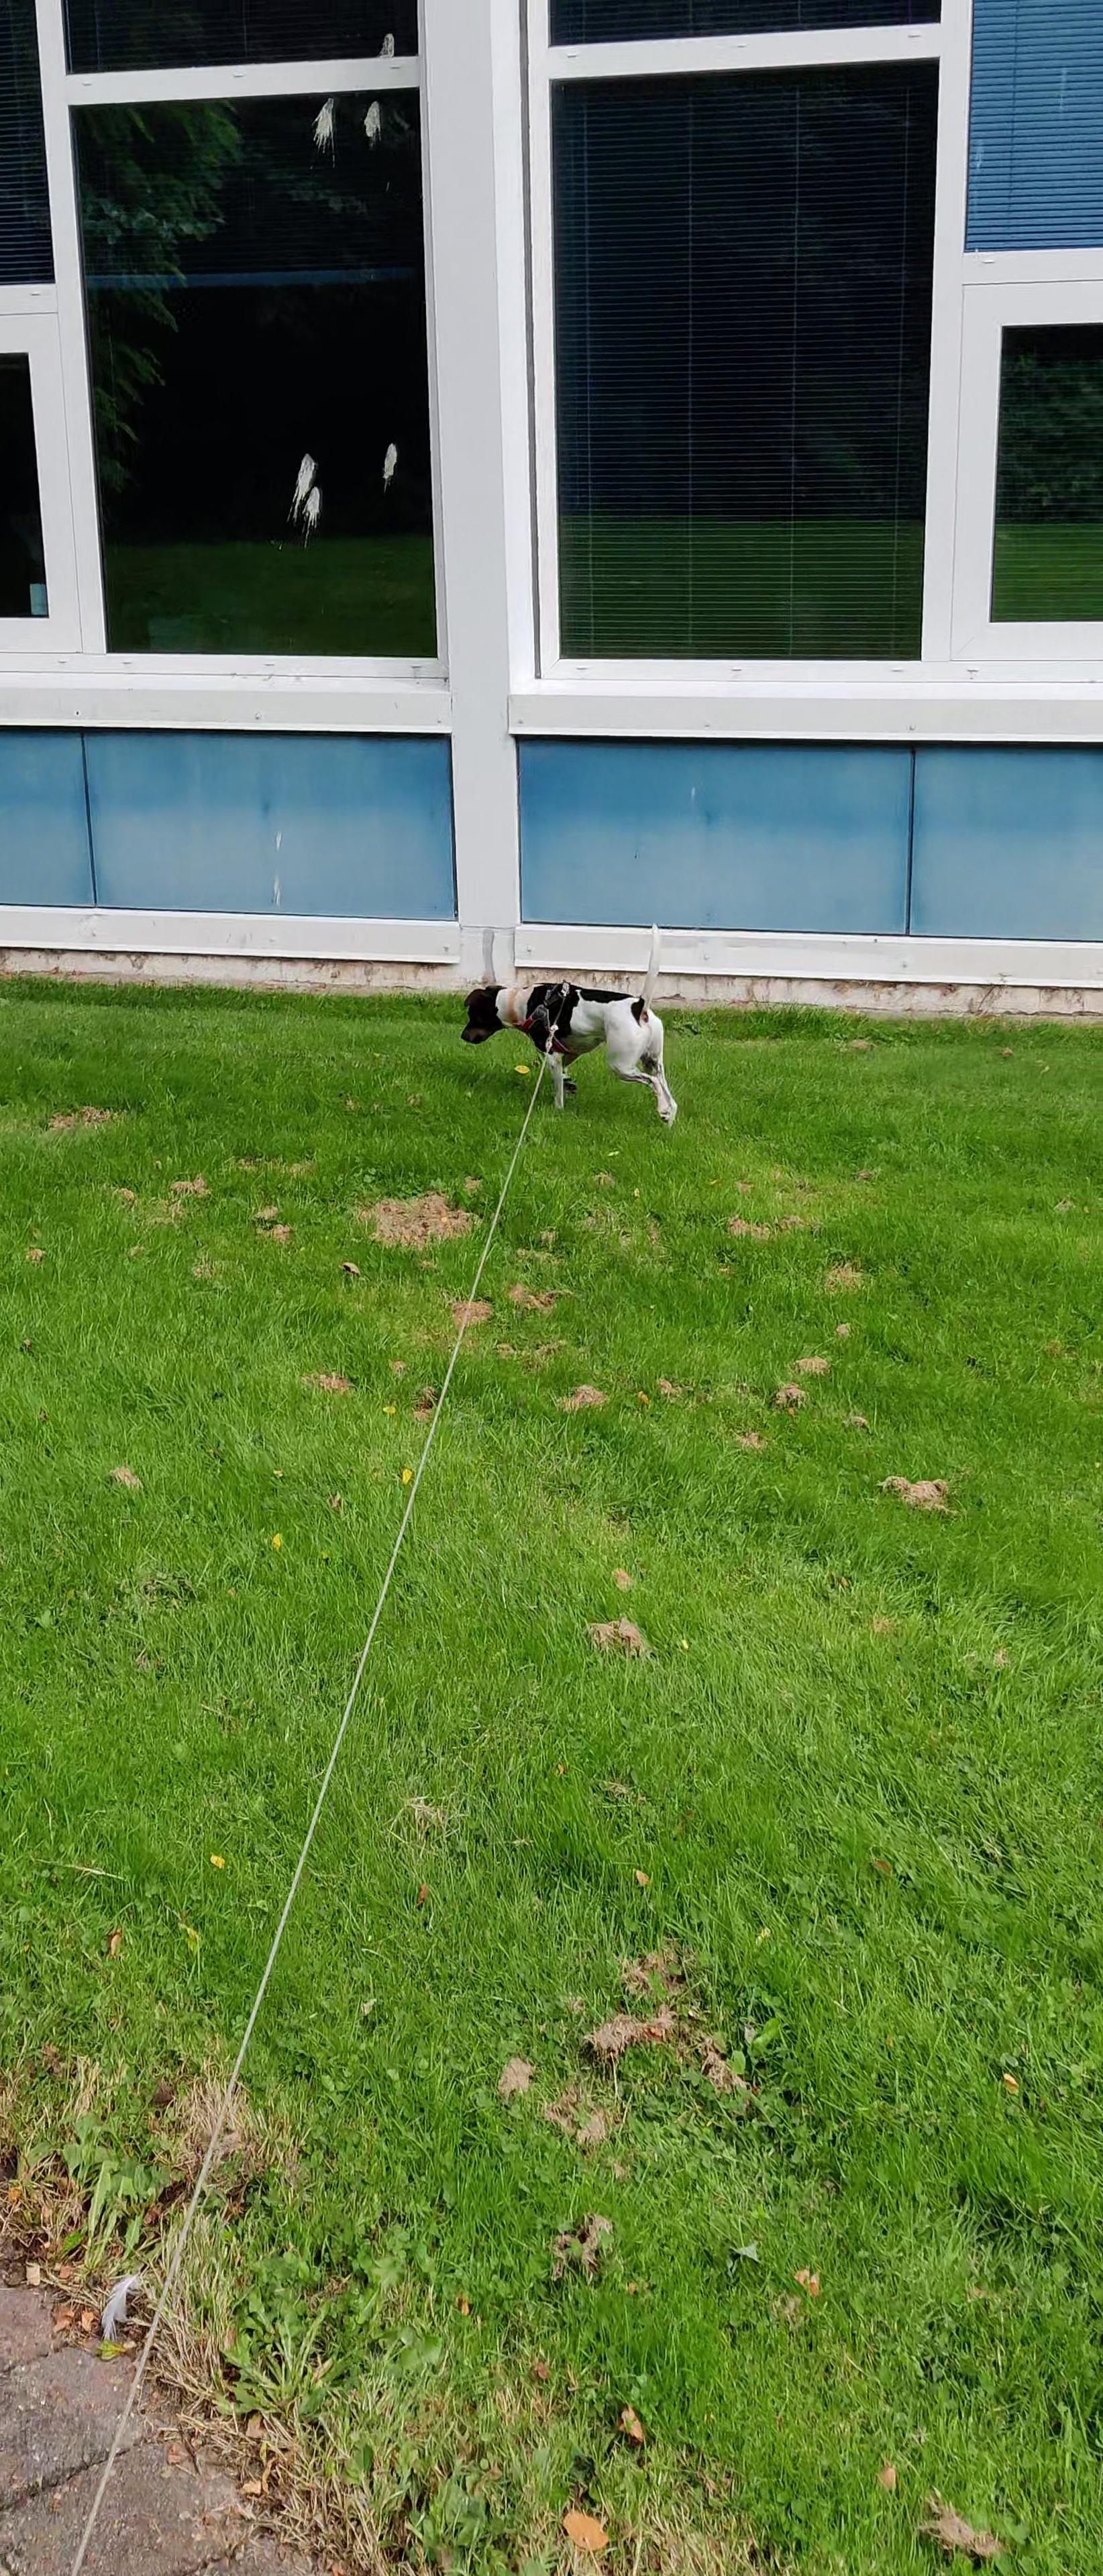Dog: (454, 915, 685, 1134)
